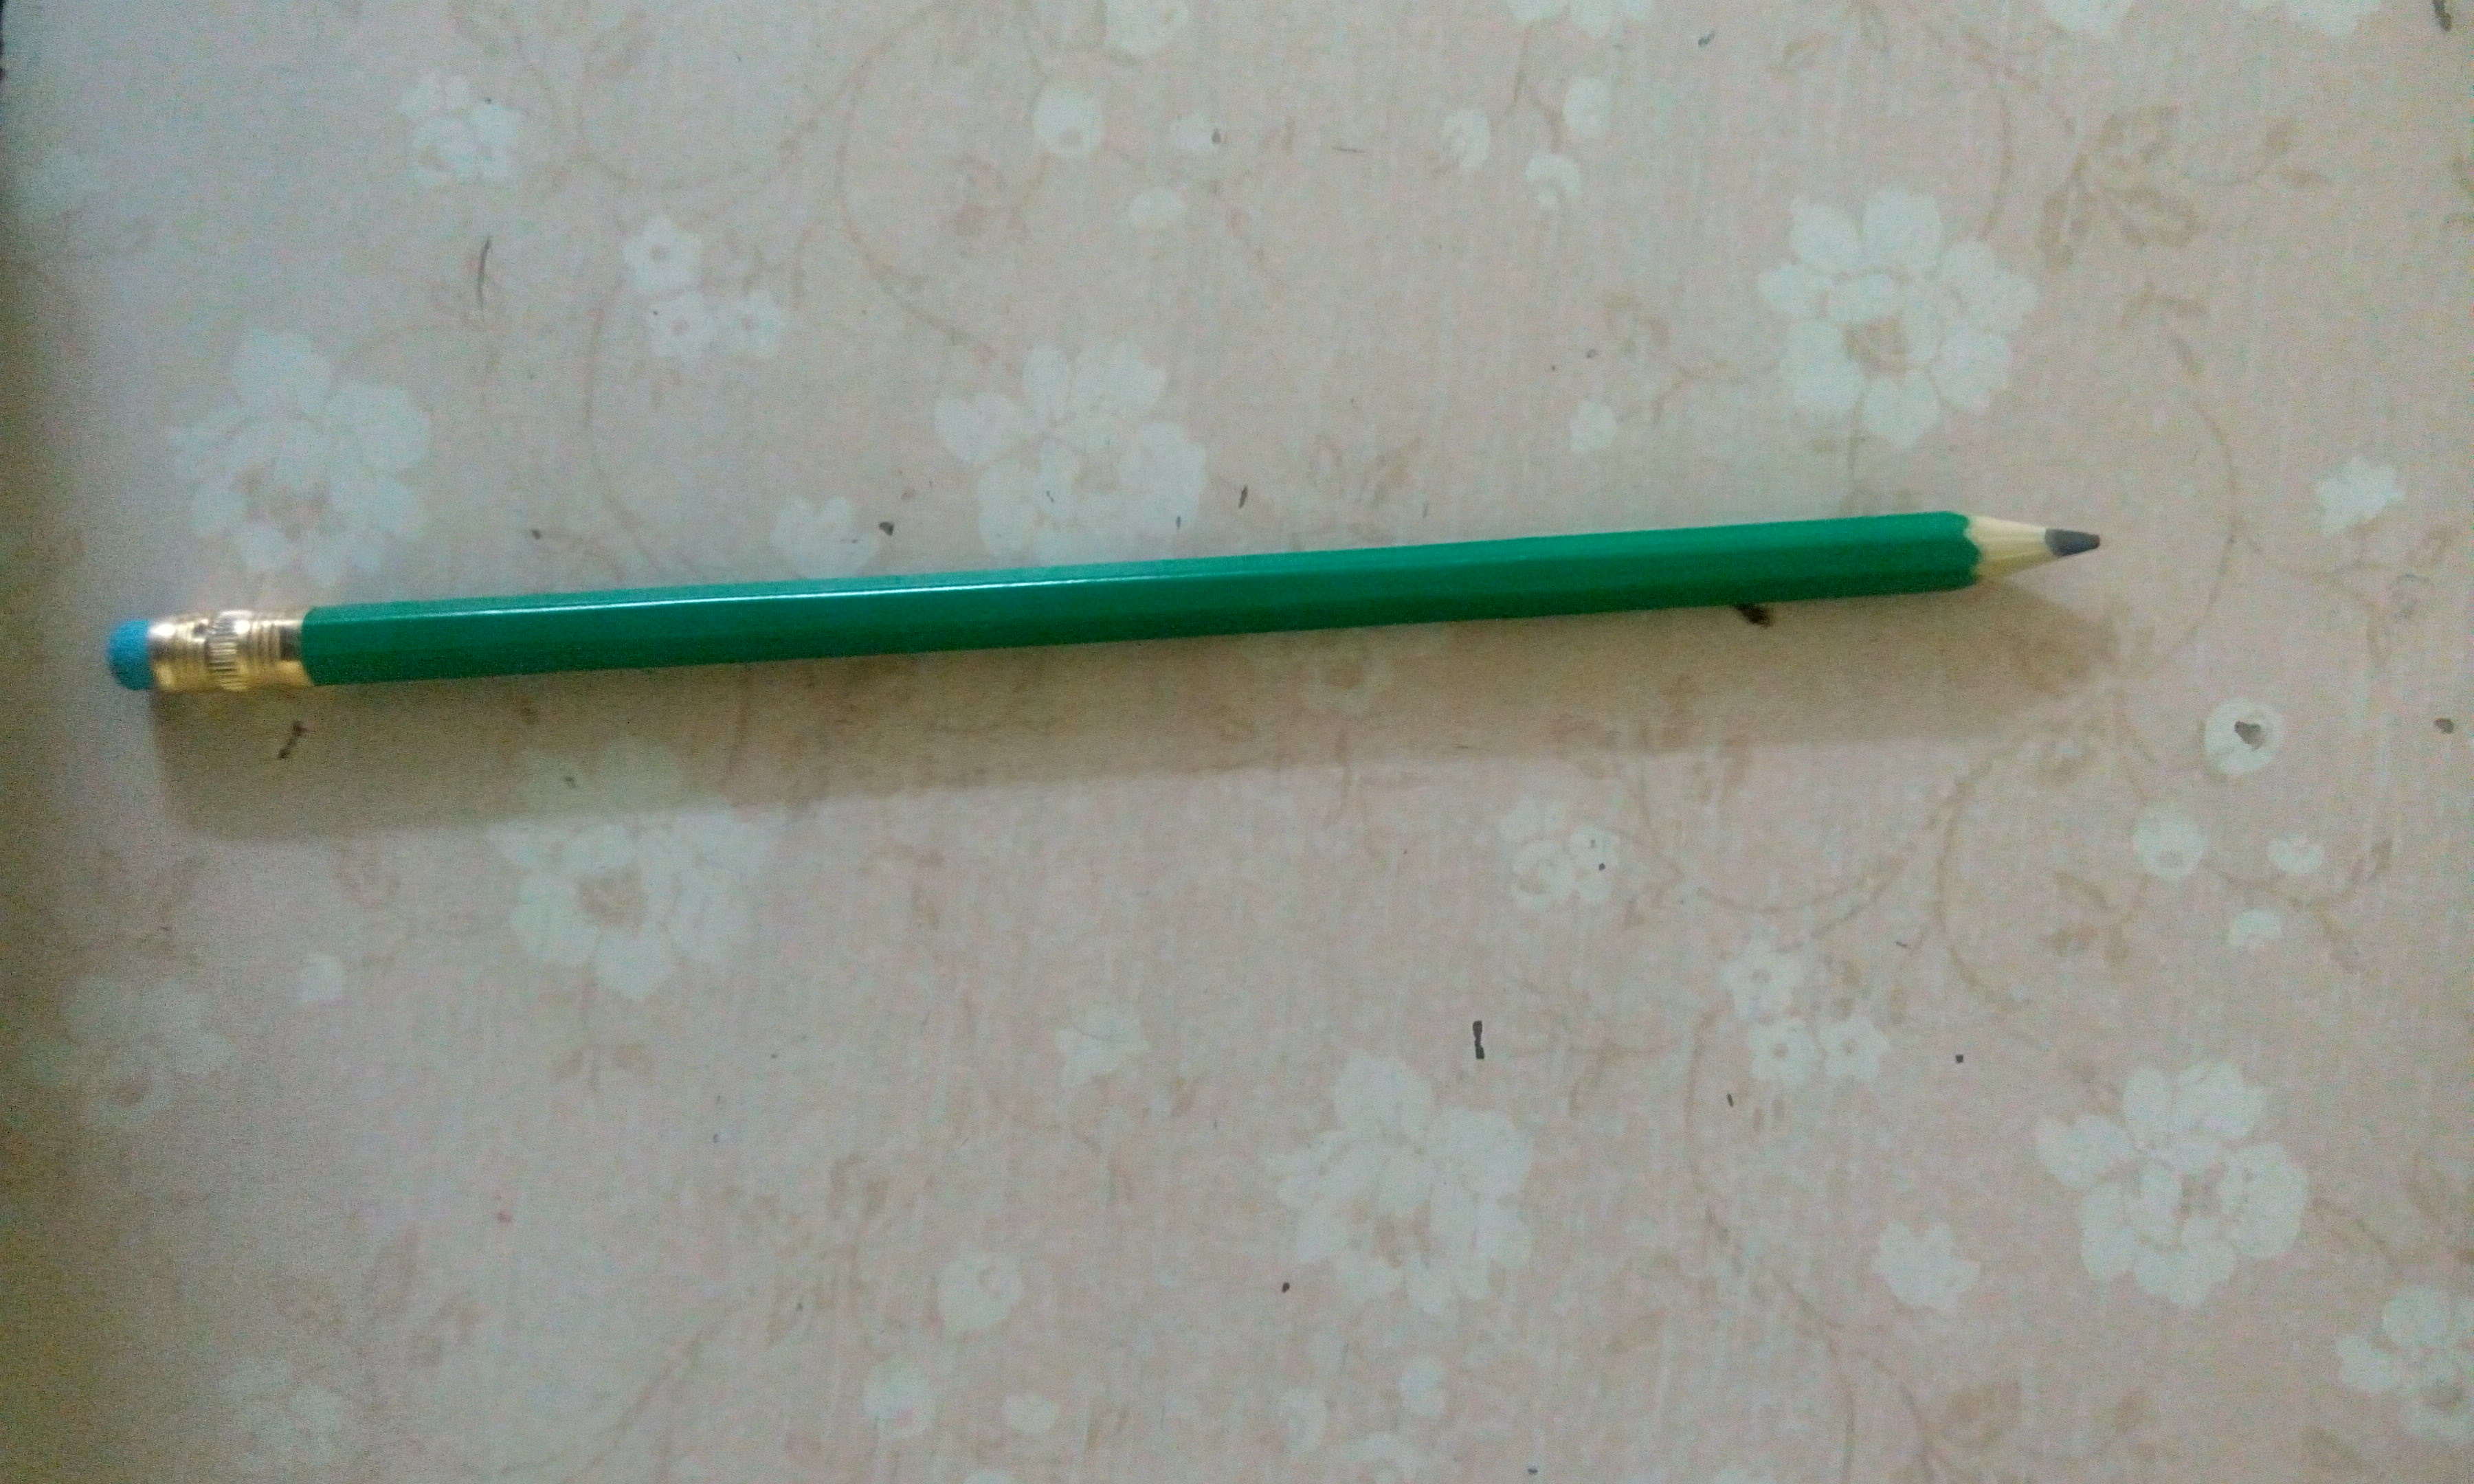pen_tip: (1910, 477, 2152, 625)
